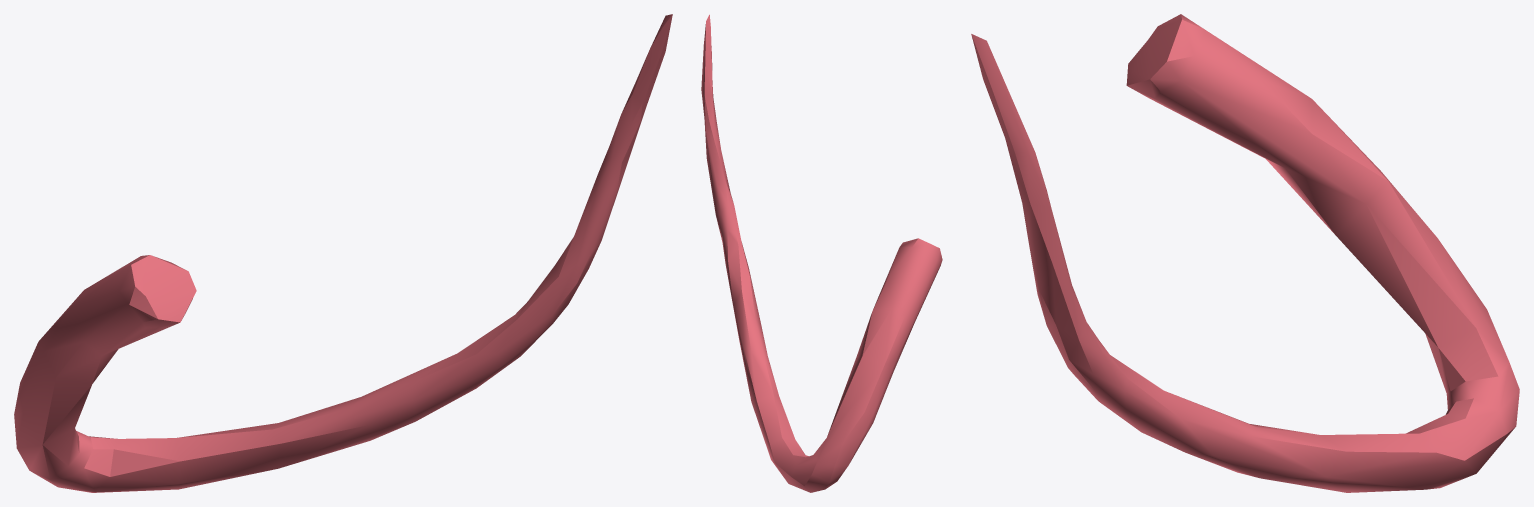
The model's file is fma18910_fj3531.glb.
The picture shows the model from 3 angles, left to right: view 1: azimuth 30°, elevation 25°; view 2: azimuth 150°, elevation 25°; view 3: azimuth 270°, elevation 25°; orthographic projection. The views are drawn at different scales.
Visible parts, largest first — view 1: FMA18910_FJ3531; view 2: FMA18910_FJ3531; view 3: FMA18910_FJ3531.
Part boxes in pixels (x1,y1,x2,y2): FMA18910_FJ3531: [14, 14, 672, 492]; FMA18910_FJ3531: [701, 14, 942, 492]; FMA18910_FJ3531: [971, 14, 1519, 492].
Bounding box in the file's own units: 0.0432 × 0.0475 × 0.0367.
